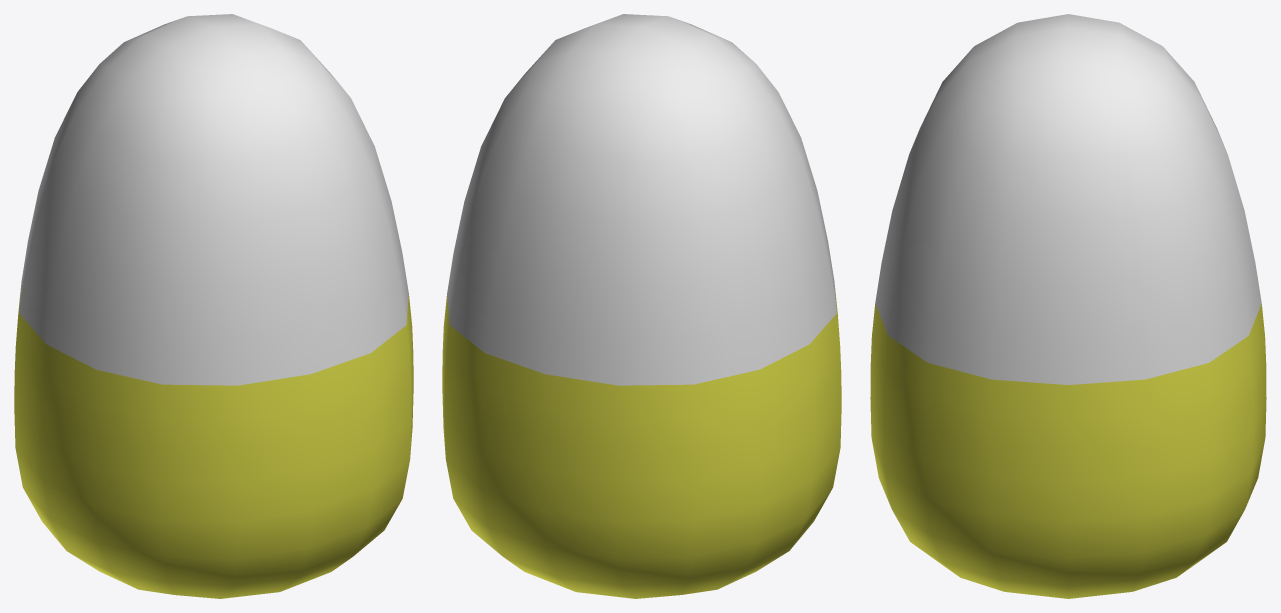
Rendered from yellowEgg.fbx.
The picture shows the model from 3 angles, left to right: view 1: azimuth 30°, elevation 25°; view 2: azimuth 150°, elevation 25°; view 3: azimuth 270°, elevation 25°; orthographic projection.
Visible parts, largest first — view 1: TopYellow, BottomYellow; view 2: TopYellow, BottomYellow; view 3: TopYellow, BottomYellow.
Part boxes in pixels (x1,y1,x2,y2): TopYellow: [19, 14, 408, 385]; BottomYellow: [14, 285, 413, 598]; TopYellow: [447, 14, 836, 385]; BottomYellow: [442, 285, 841, 598]; TopYellow: [875, 14, 1261, 384]; BottomYellow: [870, 304, 1266, 598].
Size of the model in its own units: 44.18 by 66.35 by 44.18.
